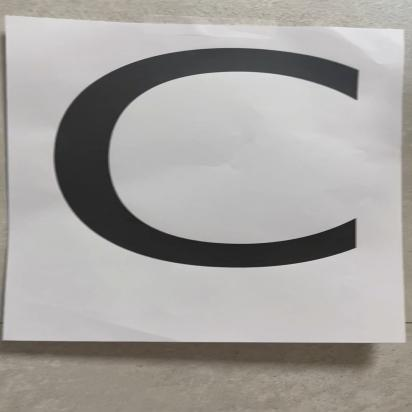seat: (7, 18, 394, 343)
